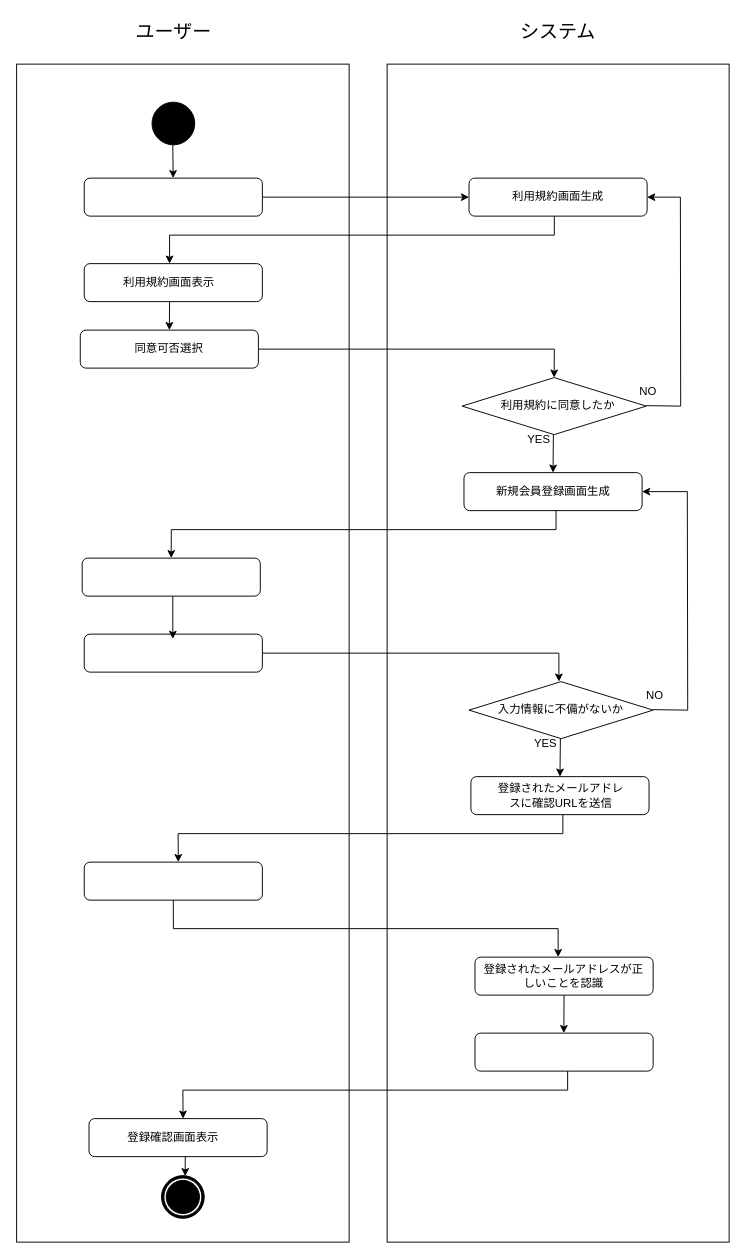
Some shapes in this 746 by 1259 pixel diagram are drawn without their labels. The centre of each missing label's shape, as x and y in pixels:
"会員情報入力" goes at [172,652].
"新規会員登録画面表示" goes at [170,576].
"新規会員登録選択" goes at [172,196].
"登録したメールアドレスに届いた確認URLを開く" goes at [172,880].
"登録確認画面生成" goes at [563,1051].
